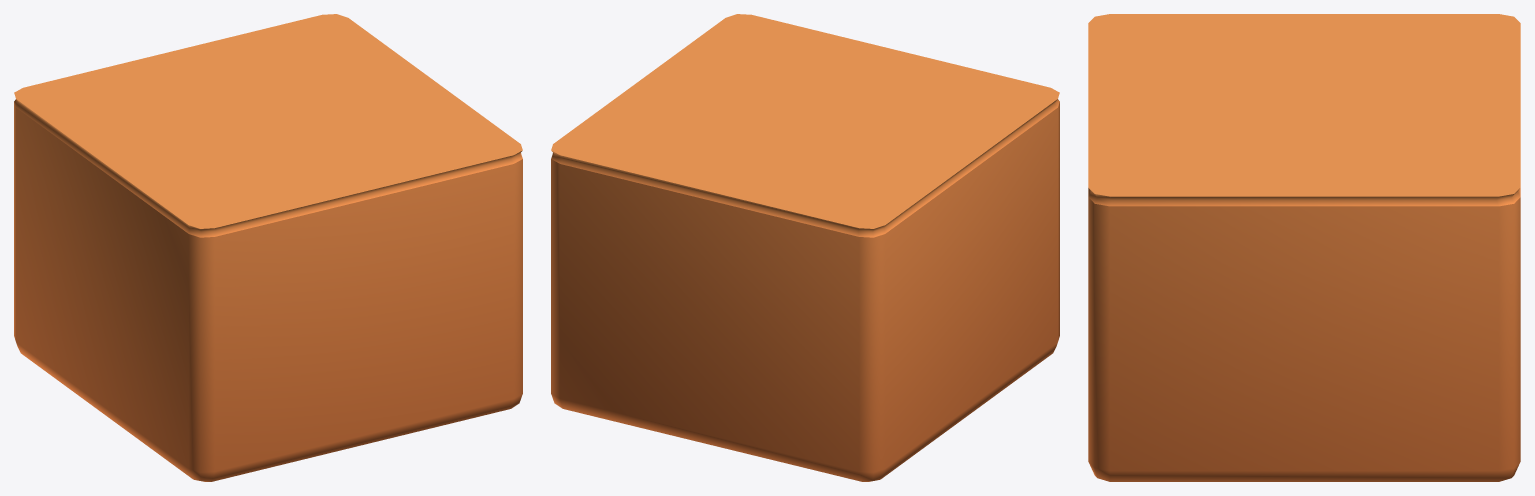
The model's file is 3D_Tile_Socket_Ground_01.glb.
3 renders of one model, left to right at view 1: azimuth 30°, elevation 25°; view 2: azimuth 150°, elevation 25°; view 3: azimuth 270°, elevation 25°, orthographic. The views are drawn at different scales.
Parts seen in each view (by area): view 1: 3D_Tile_Socket_Ground_01; view 2: 3D_Tile_Socket_Ground_01; view 3: 3D_Tile_Socket_Ground_01.
Part boxes in pixels (x1,y1,x2,y2): 3D_Tile_Socket_Ground_01: [14, 14, 522, 481]; 3D_Tile_Socket_Ground_01: [551, 14, 1059, 481]; 3D_Tile_Socket_Ground_01: [1088, 14, 1520, 481].
Bounding box in the file's own units: 2 × 1.5 × 2.
1 material, 1 textured.
